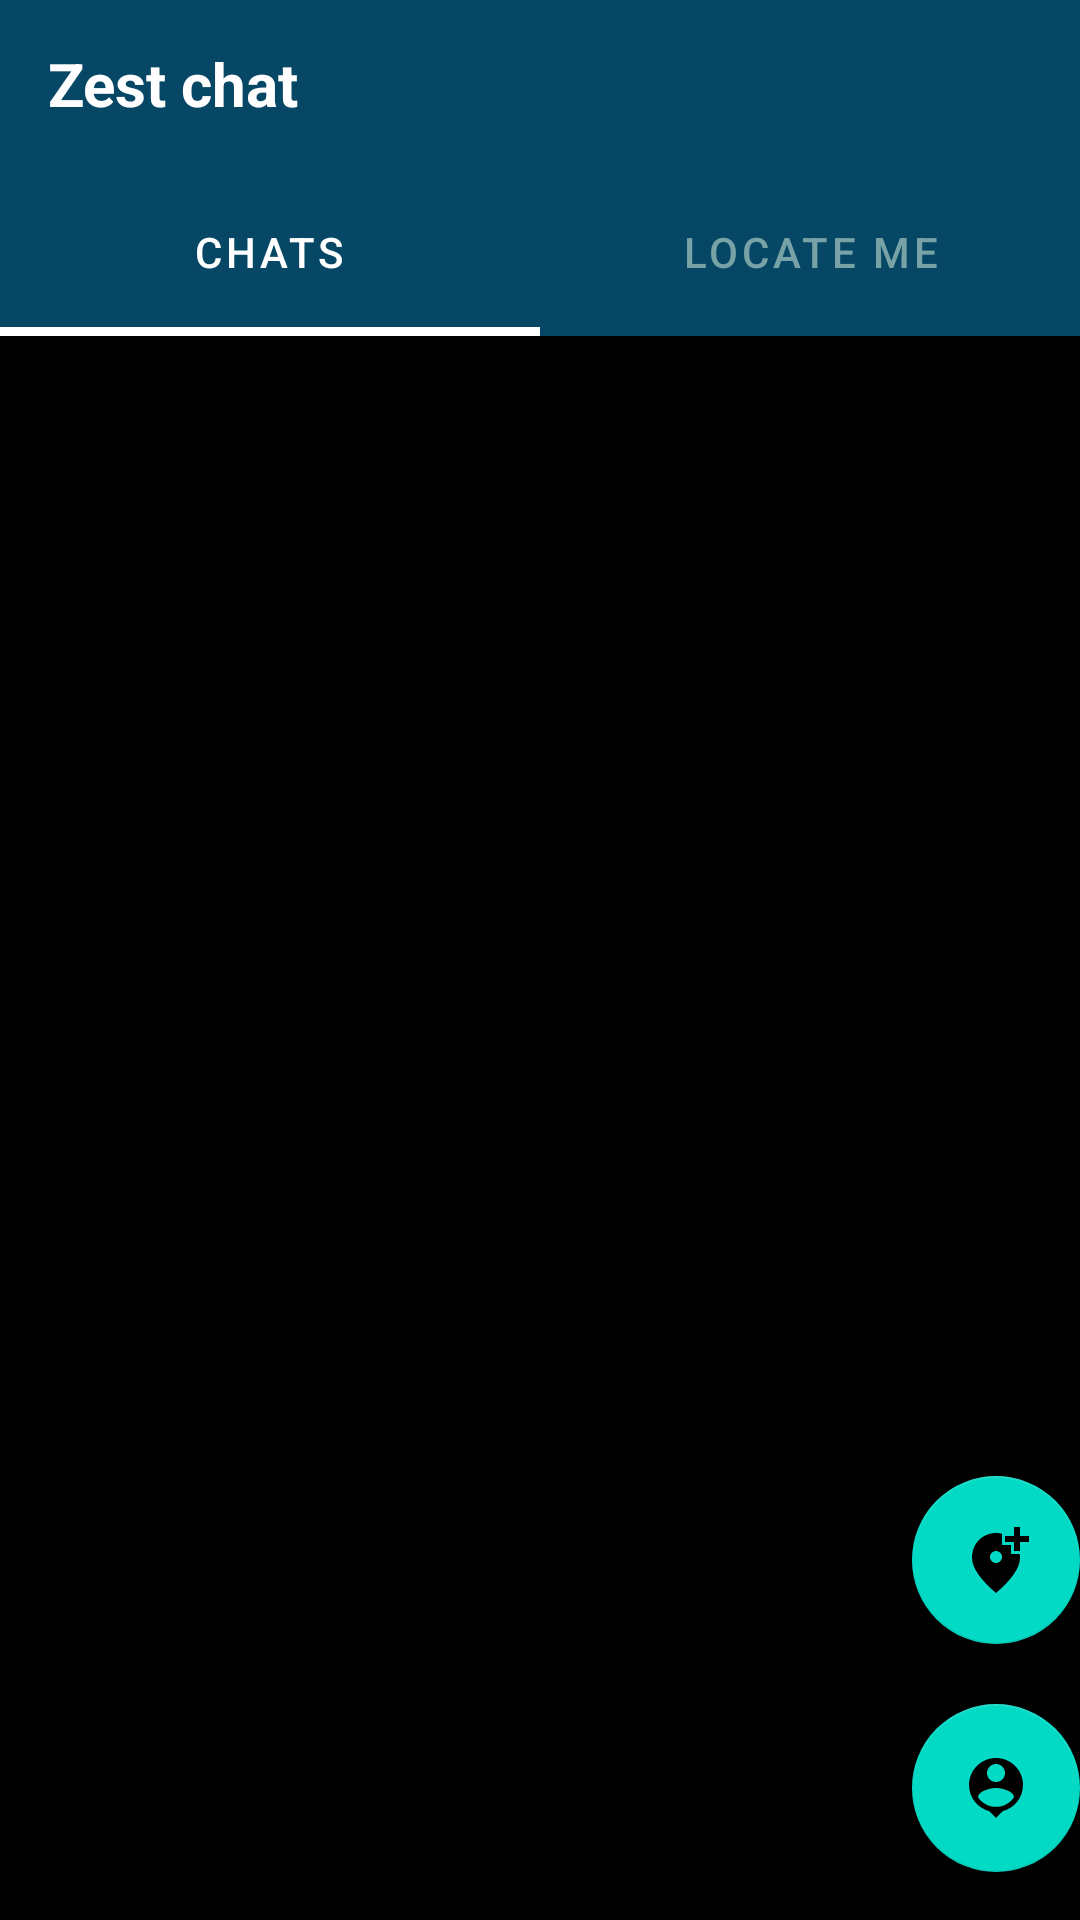

Named icons in this screenshot (1080 x 1920) and their centers, (x=x, y=y):
person pin: (x=996, y=1788)
